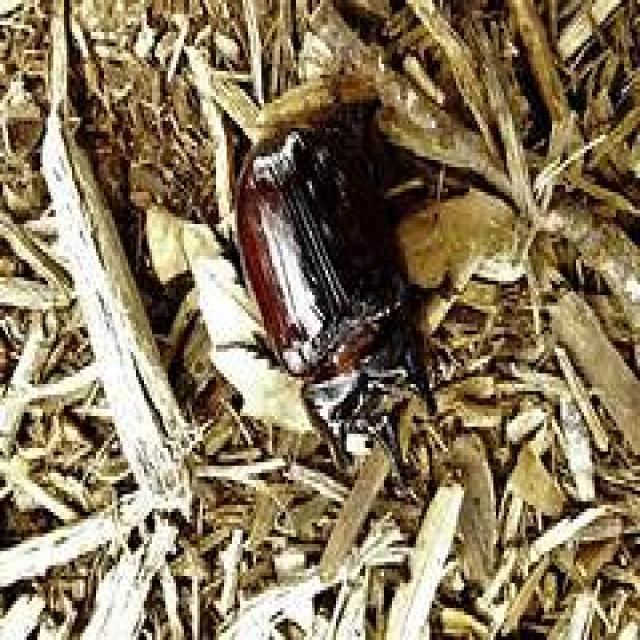Rhino-beetle: (236, 49, 460, 470)
